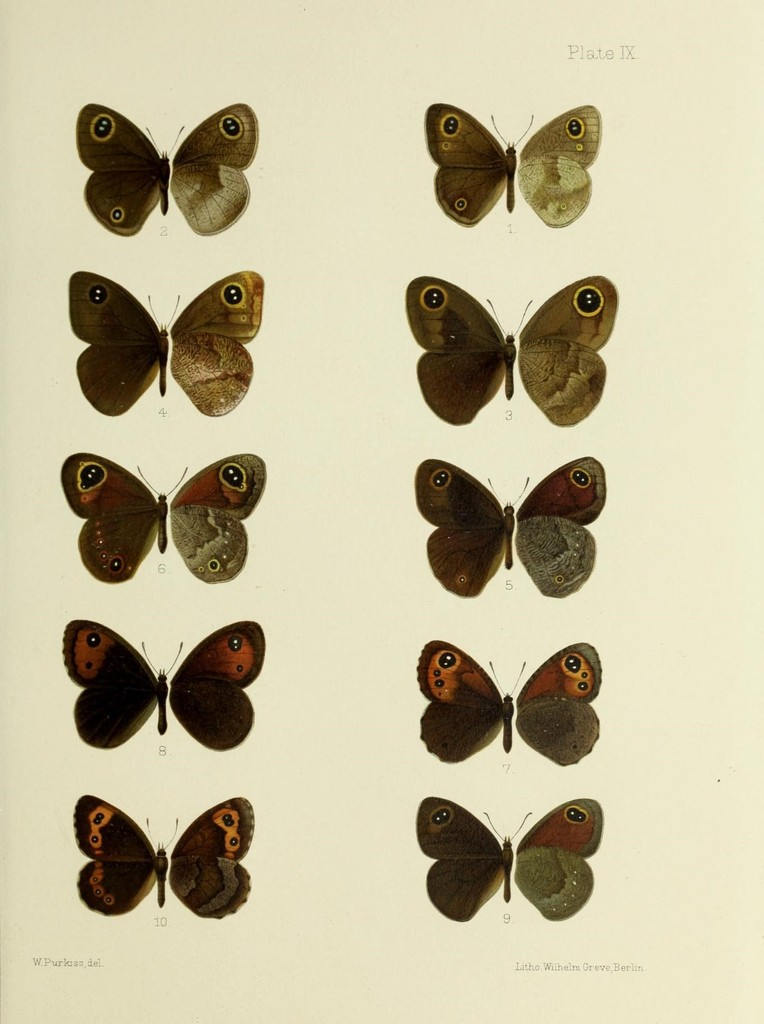Butterfly: (55, 90, 292, 259)
